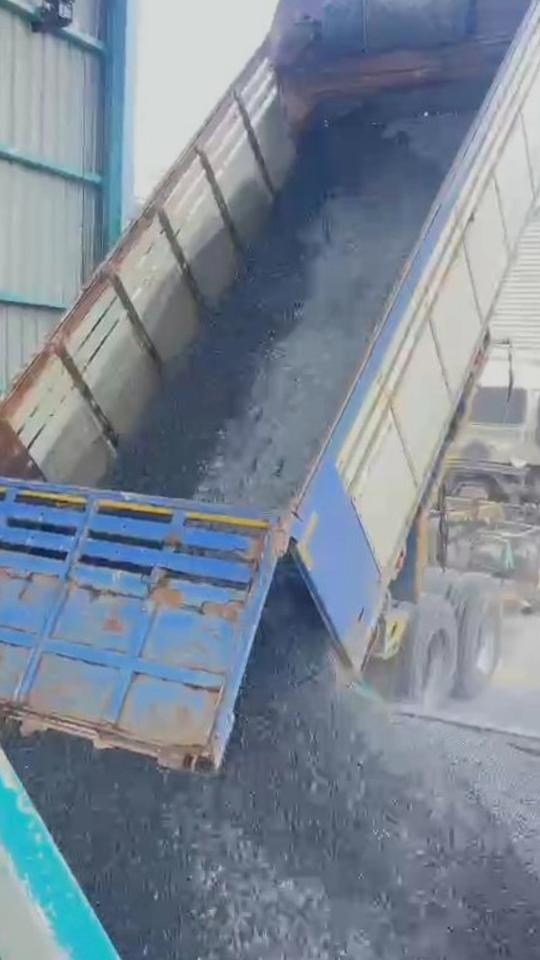gravel: (7, 566, 540, 960), (117, 112, 471, 508), (0, 825, 16, 960)
